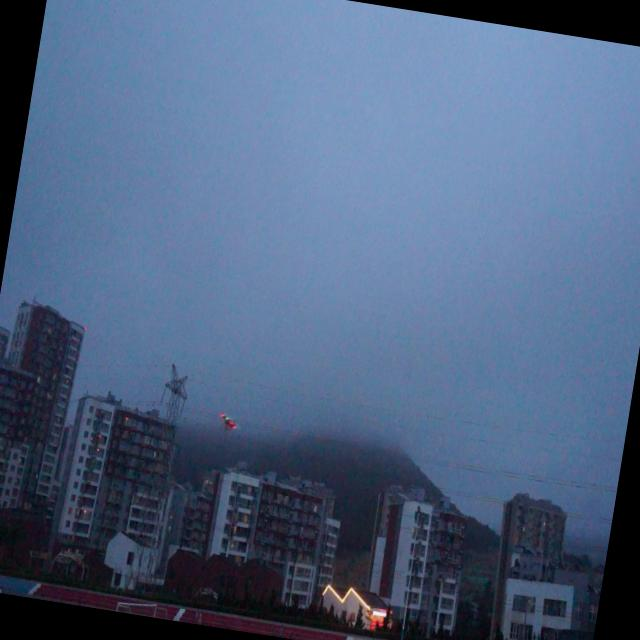drone: (215, 410, 242, 440)
